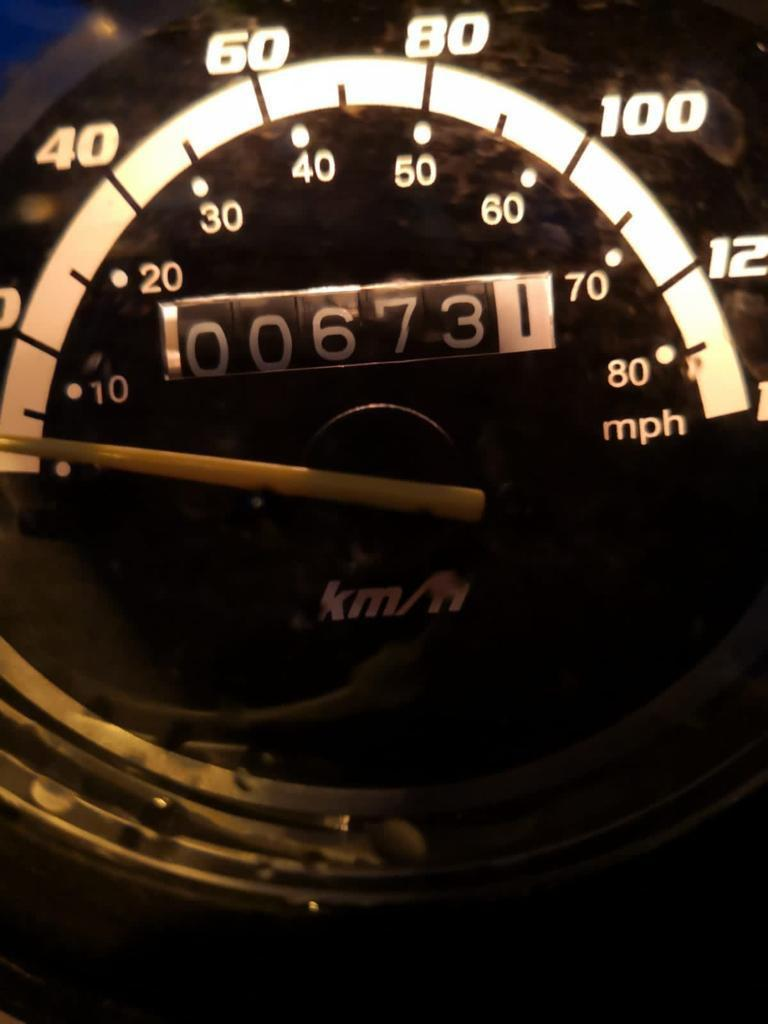0: (243, 311, 294, 372), (181, 318, 229, 377), (161, 264, 184, 292)
1: (512, 278, 537, 340)
2: (153, 265, 163, 295)
3: (438, 291, 488, 350)
6: (308, 304, 359, 362)
7: (369, 292, 418, 355)
odometer: (152, 264, 563, 386)
